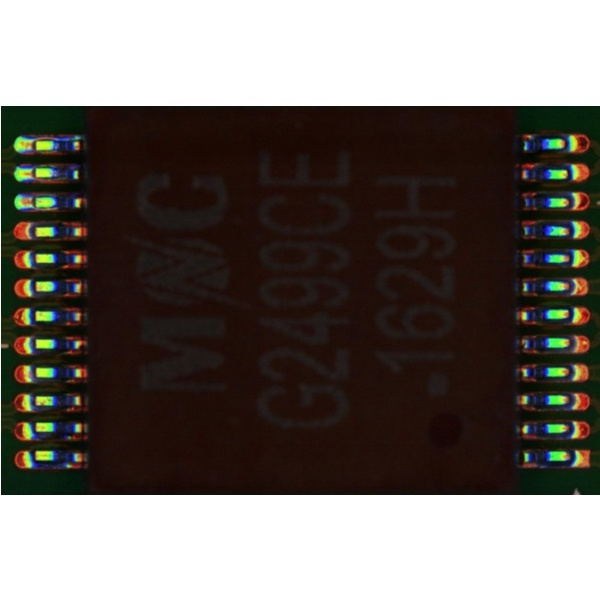Bad_podu: (24, 168, 38, 178), (27, 141, 39, 151), (27, 197, 37, 208)
Bad_qiaojiao: (32, 136, 79, 142)
